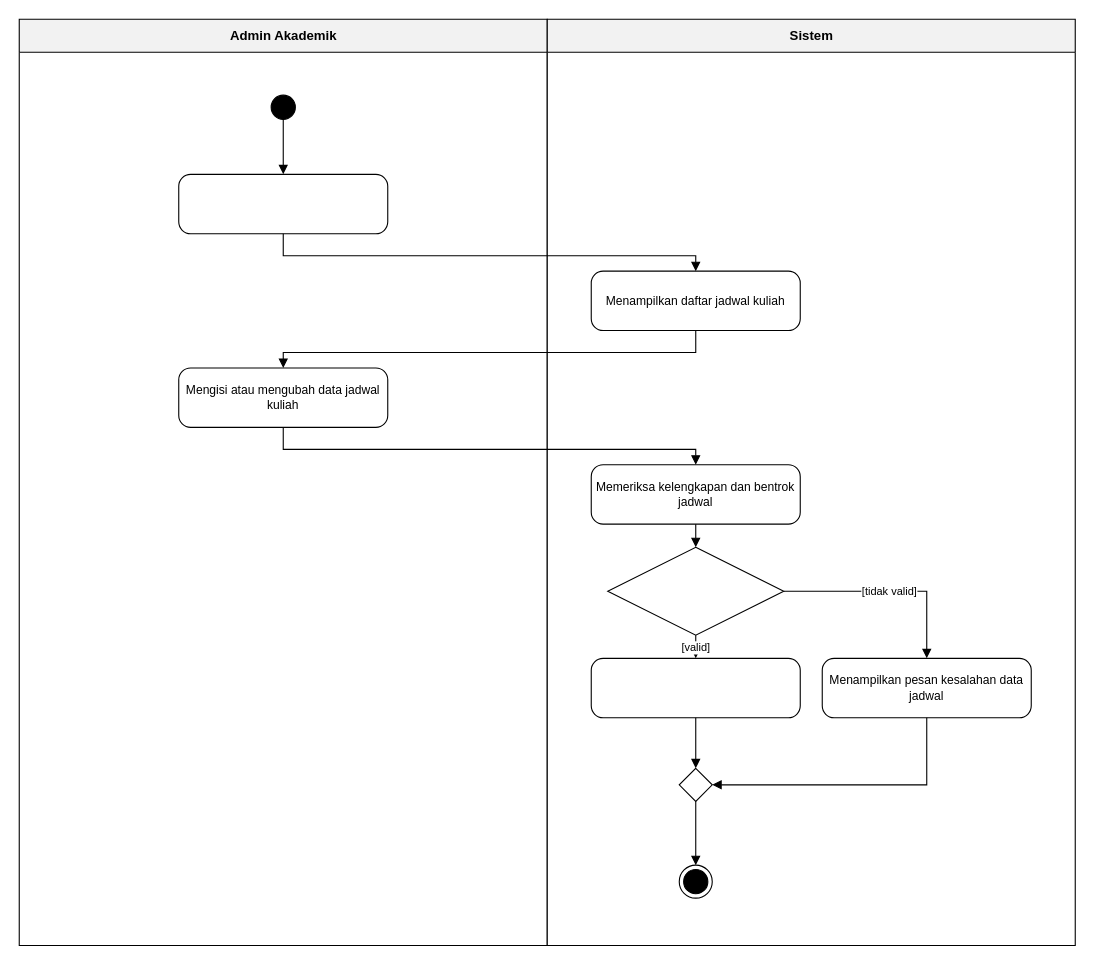
Some shapes in this 1095 by 965 pixel diagram are drawn without their labels. The shapes that lost their labels are listed below. From the top down, each one's centre as x and y in pixels, then its label:
pixel 283 203: Membuka fungsi Kelola Jadwal Kuliah
pixel 695 590: Data jadwal valid?
pixel 695 687: Menyimpan jadwal kuliah dan menampilkan konfirmasi
